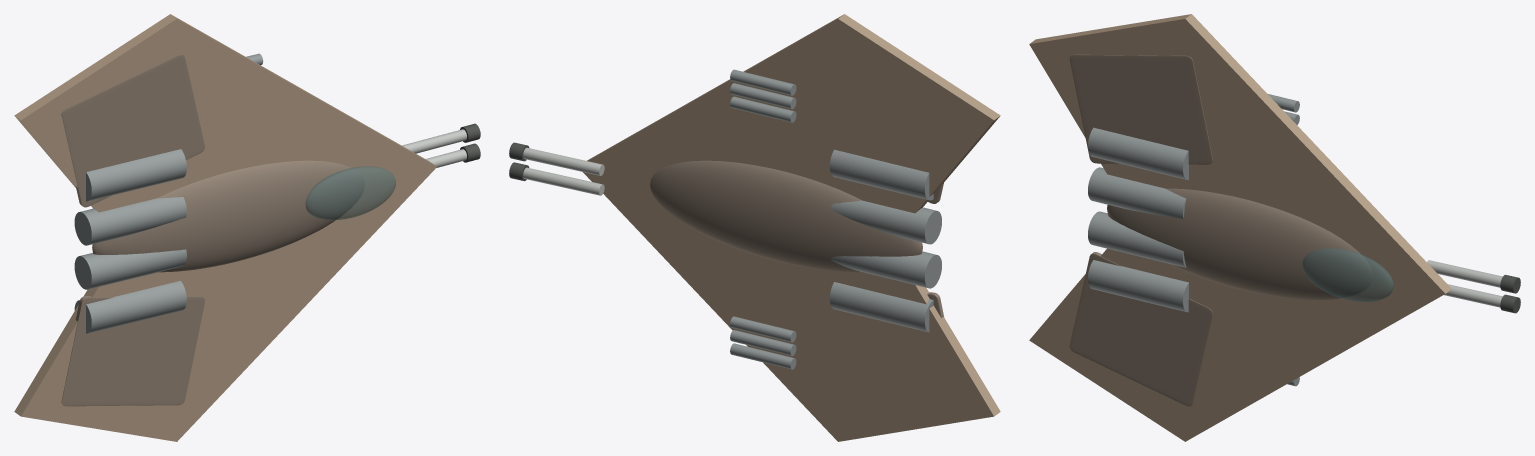
File: d-u27-dominion-heavy-bomber-lod1.glb
3 views of the same model, side by side, from view 1: azimuth 30°, elevation 25°; view 2: azimuth 150°, elevation 25°; view 3: azimuth 330°, elevation 25° (orthographic).
Visible parts, largest first — view 1: flying_wing_planform, flying_wing_core, flying_wing_elevon_1, flying_wing_elevon_-1, flying_wing_canopy, flying_wing_engine_2, flying_wing_engine_0, flying_wing_engine_3, flying_wing_engine_1, flying_wing_gun_barrel_1; view 2: flying_wing_planform, flying_wing_core, flying_wing_engine_0, flying_wing_engine_3, flying_wing_engine_2, flying_wing_engine_1, flying_wing_gun_barrel_1, flying_wing_gun_barrel_0, flying_wing_-1_tube_3, flying_wing_-1_tube_1, flying_wing_-1_tube_2, flying_wing_1_tube_1 (+2 smaller); view 3: flying_wing_planform, flying_wing_core, flying_wing_elevon_1, flying_wing_elevon_-1, flying_wing_canopy, flying_wing_engine_0, flying_wing_engine_3, flying_wing_engine_2, flying_wing_engine_1, flying_wing_gun_barrel_1, flying_wing_gun_barrel_0.
Boxes of the visible parts, x1,y1,x2,y2 form: flying_wing_planform: (14, 14, 436, 441); flying_wing_core: (92, 160, 364, 272); flying_wing_elevon_1: (61, 54, 204, 207); flying_wing_elevon_-1: (61, 296, 204, 406); flying_wing_canopy: (305, 166, 395, 220); flying_wing_engine_2: (74, 197, 186, 245); flying_wing_engine_0: (74, 280, 186, 333); flying_wing_engine_3: (86, 149, 186, 201); flying_wing_engine_1: (74, 249, 186, 289); flying_wing_gun_barrel_1: (402, 129, 466, 153); flying_wing_planform: (583, 14, 1000, 441); flying_wing_core: (650, 160, 922, 272); flying_wing_engine_0: (829, 282, 933, 332); flying_wing_engine_3: (829, 149, 933, 200); flying_wing_engine_2: (831, 200, 941, 244); flying_wing_engine_1: (831, 251, 941, 288); flying_wing_gun_barrel_1: (523, 147, 604, 175); flying_wing_gun_barrel_0: (523, 167, 604, 195); flying_wing_-1_tube_3: (730, 316, 796, 342); flying_wing_-1_tube_1: (730, 343, 796, 369); flying_wing_-1_tube_2: (730, 330, 796, 355); flying_wing_1_tube_1: (730, 96, 796, 122); flying_wing_planform: (1029, 14, 1451, 441); flying_wing_core: (1107, 188, 1372, 299); flying_wing_elevon_1: (1069, 54, 1212, 164); flying_wing_elevon_-1: (1069, 252, 1212, 406); flying_wing_canopy: (1302, 248, 1393, 302); flying_wing_engine_0: (1088, 260, 1188, 312); flying_wing_engine_3: (1088, 127, 1188, 180); flying_wing_engine_2: (1088, 167, 1186, 219); flying_wing_engine_1: (1088, 211, 1186, 267); flying_wing_gun_barrel_1: (1427, 260, 1502, 287); flying_wing_gun_barrel_0: (1444, 284, 1502, 307).
Size of what is drawn, in the model's own units: 19.85 by 17 by 2.31.
